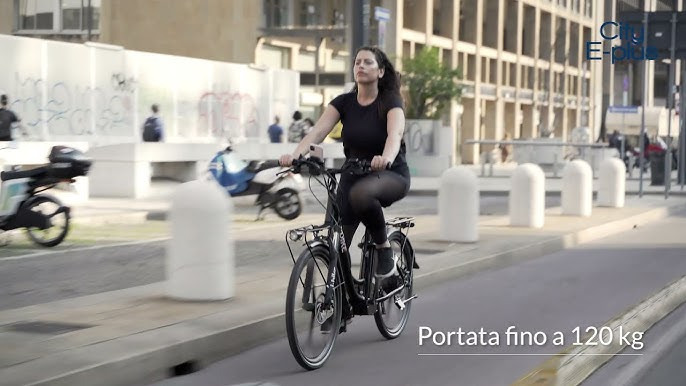bicycle: (277, 154, 421, 372)
